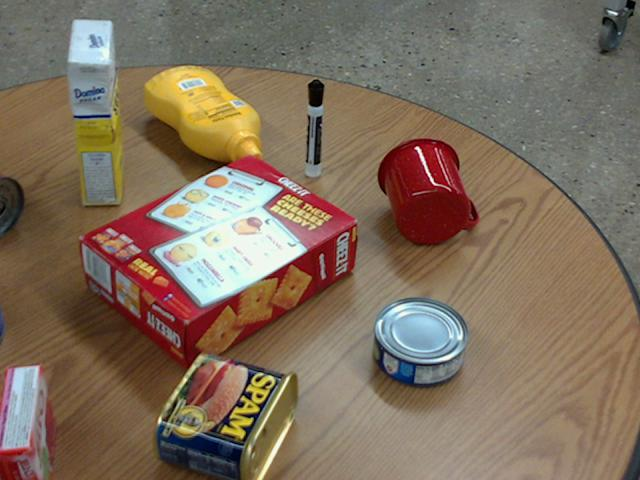cracker_box: (81, 156, 357, 370)
gelatin_box: (0, 361, 53, 479)
large_marker: (305, 79, 323, 175)
master_chef_can: (0, 311, 3, 337)
mug: (377, 137, 478, 244)
mustard_bottle: (144, 67, 261, 164)
potted_meat_can: (152, 352, 297, 479)
sugar_box: (68, 20, 122, 204)
tomato_soup_can: (0, 172, 23, 234)
tuna_fish_can: (372, 297, 468, 386)
